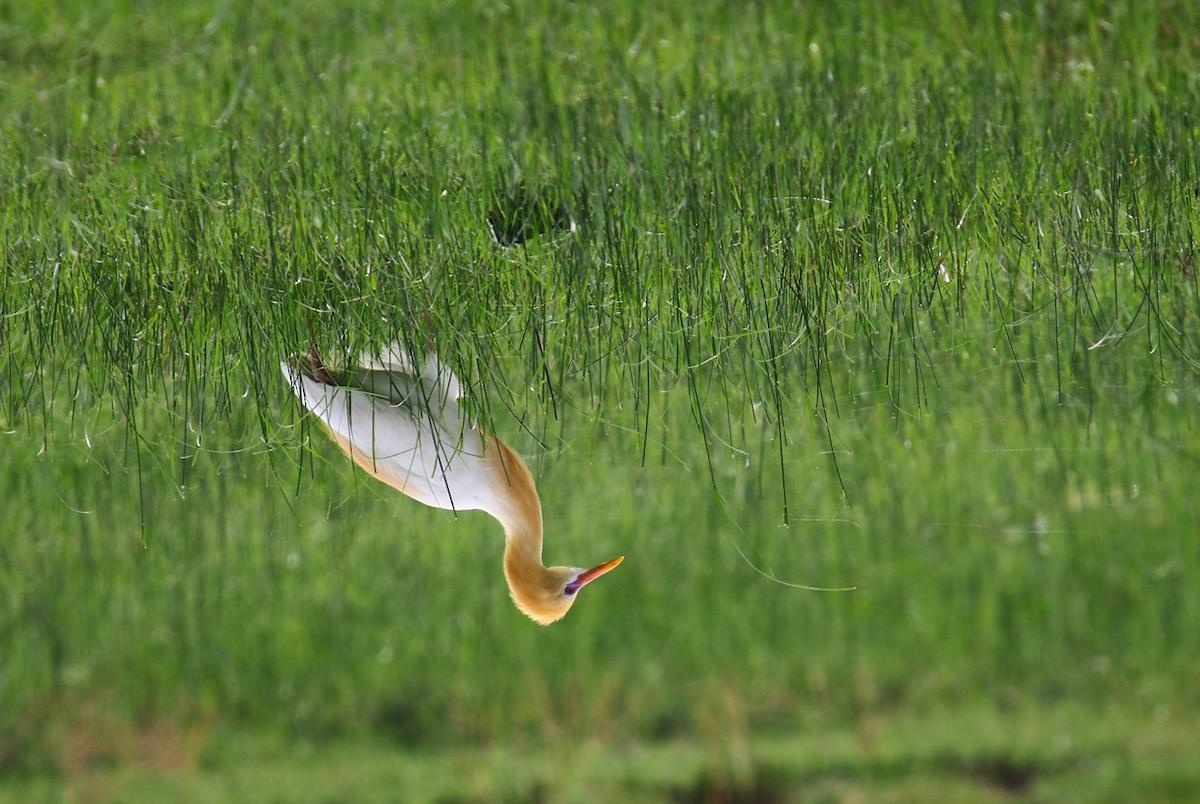egret: (267, 341, 623, 635)
